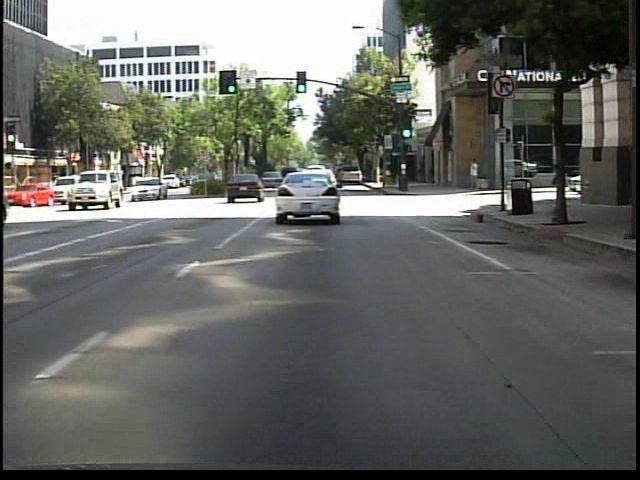person: (466, 154, 483, 194)
